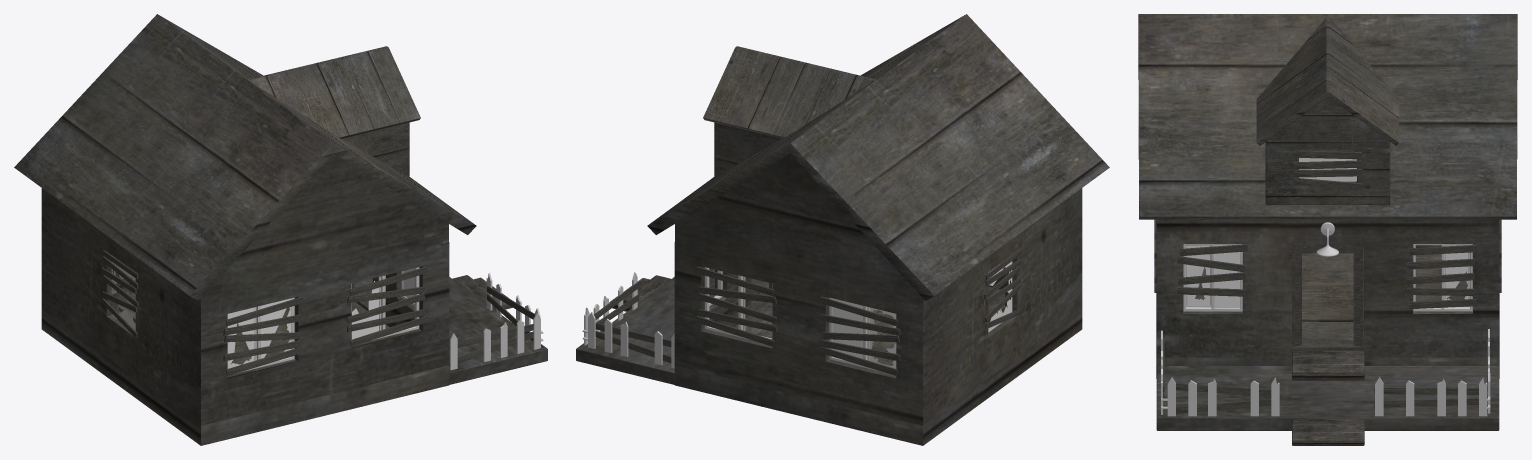
The model's file is abandonedCabinFinal4.fbx.
3 views of the same model, side by side, from view 1: azimuth 30°, elevation 25°; view 2: azimuth 150°, elevation 25°; view 3: azimuth 270°, elevation 25° (orthographic). The views are drawn at different scales.
Visible parts, largest first — view 1: Cube.086; view 2: Cube.086; view 3: Cube.086.
Part boxes in pixels (bbox=[...]): Cube.086: bbox=[14, 14, 547, 445]; Cube.086: bbox=[576, 14, 1109, 445]; Cube.086: bbox=[1138, 14, 1517, 445].
Bounding box in the file's own units: 1766 × 1188 × 1361.
